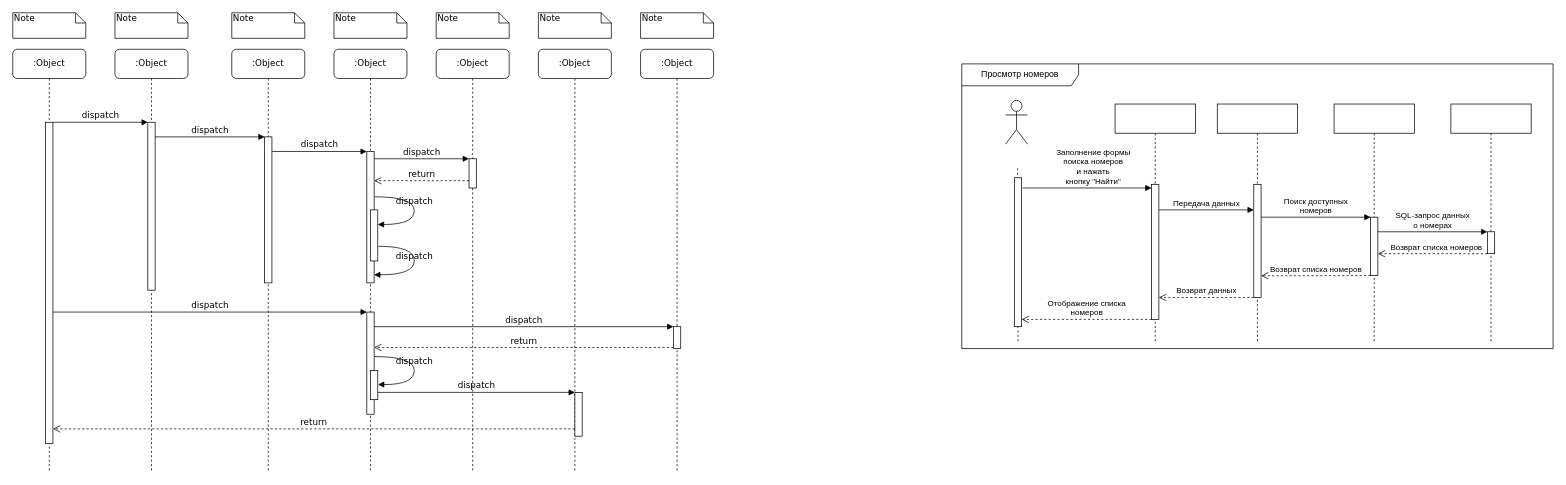
Some shapes in this 1566 by 485 pixel diagram are drawn without their labels. The shapes that lost their labels are listed below. From the top down, each one's centre as x and y in pixels, then its label:
At point 1016,122: "Авторизованный пользователь".
At point 1154,222: "Интерфейс".
At point 1257,222: "Контроллер".
At point 1373,222: "Модель".
At point 1490,222: "База данных".
